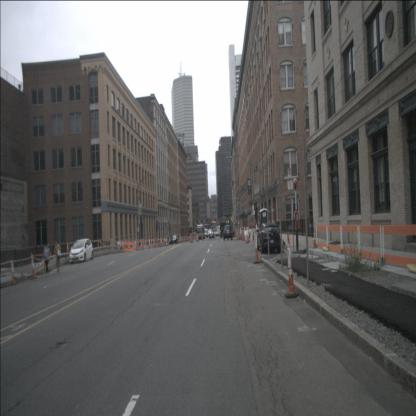cone: (285, 232, 299, 298), (254, 231, 261, 264), (31, 252, 37, 279), (11, 260, 17, 286), (312, 231, 317, 248), (246, 228, 250, 243), (243, 225, 246, 241), (247, 226, 250, 242), (240, 227, 243, 240), (148, 237, 151, 249), (235, 229, 238, 241), (189, 234, 193, 243), (242, 225, 244, 241), (196, 234, 199, 242), (154, 239, 156, 248)
